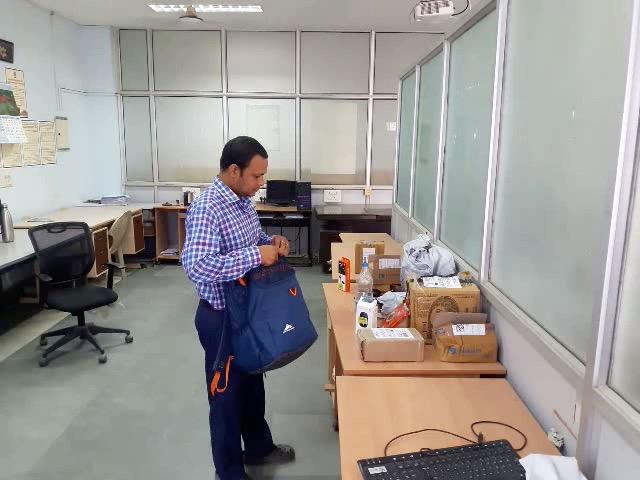Normal: (0, 2, 522, 480)
shoplifting: (130, 114, 333, 366)
